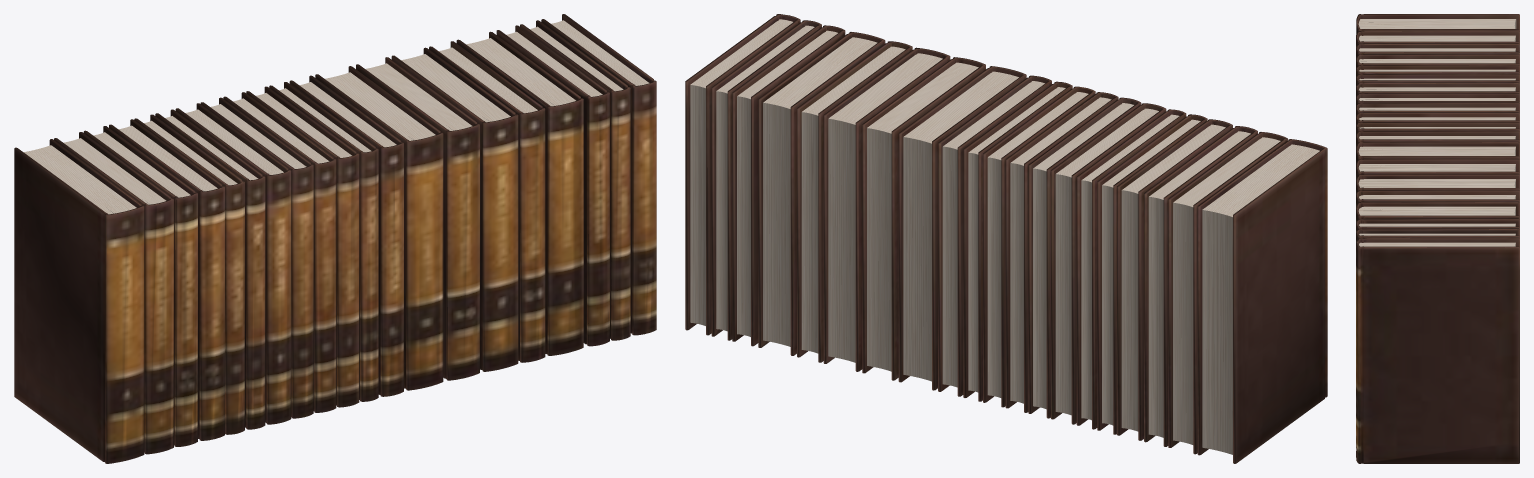
File: book_encyclopedia_set_01.glb
3 renders of one model, left to right at view 1: azimuth 30°, elevation 25°; view 2: azimuth 150°, elevation 25°; view 3: azimuth 270°, elevation 25°, orthographic. The views are drawn at different scales.
Visible parts, largest first — view 1: book_encyclopedia_set_01_book01; view 2: book_encyclopedia_set_01_book01; view 3: book_encyclopedia_set_01_book01.
Boxes of the visible parts, left/top/right/bottom form: book_encyclopedia_set_01_book01: left=14, top=14, right=656, bottom=463; book_encyclopedia_set_01_book01: left=685, top=14, right=1327, bottom=463; book_encyclopedia_set_01_book01: left=1356, top=14, right=1519, bottom=463.
Bounding box in the file's own units: 0.5513 × 0.2374 × 0.1631.
Materials: 2 (2 with a texture image).
